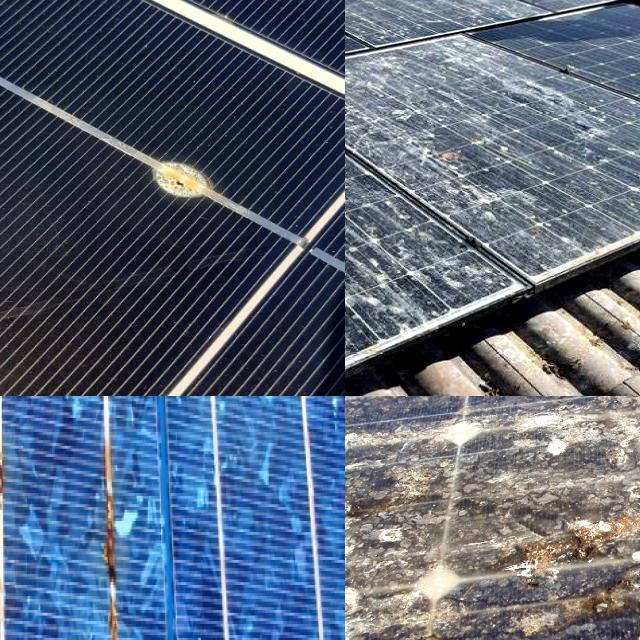bird: (345, 396, 455, 606), (493, 491, 640, 545), (504, 588, 640, 640), (549, 396, 640, 466), (345, 103, 452, 160), (345, 266, 400, 376), (345, 246, 417, 318), (537, 99, 603, 149), (345, 132, 390, 187)
shadow: (96, 429, 153, 640), (113, 138, 257, 216), (0, 396, 38, 541)
